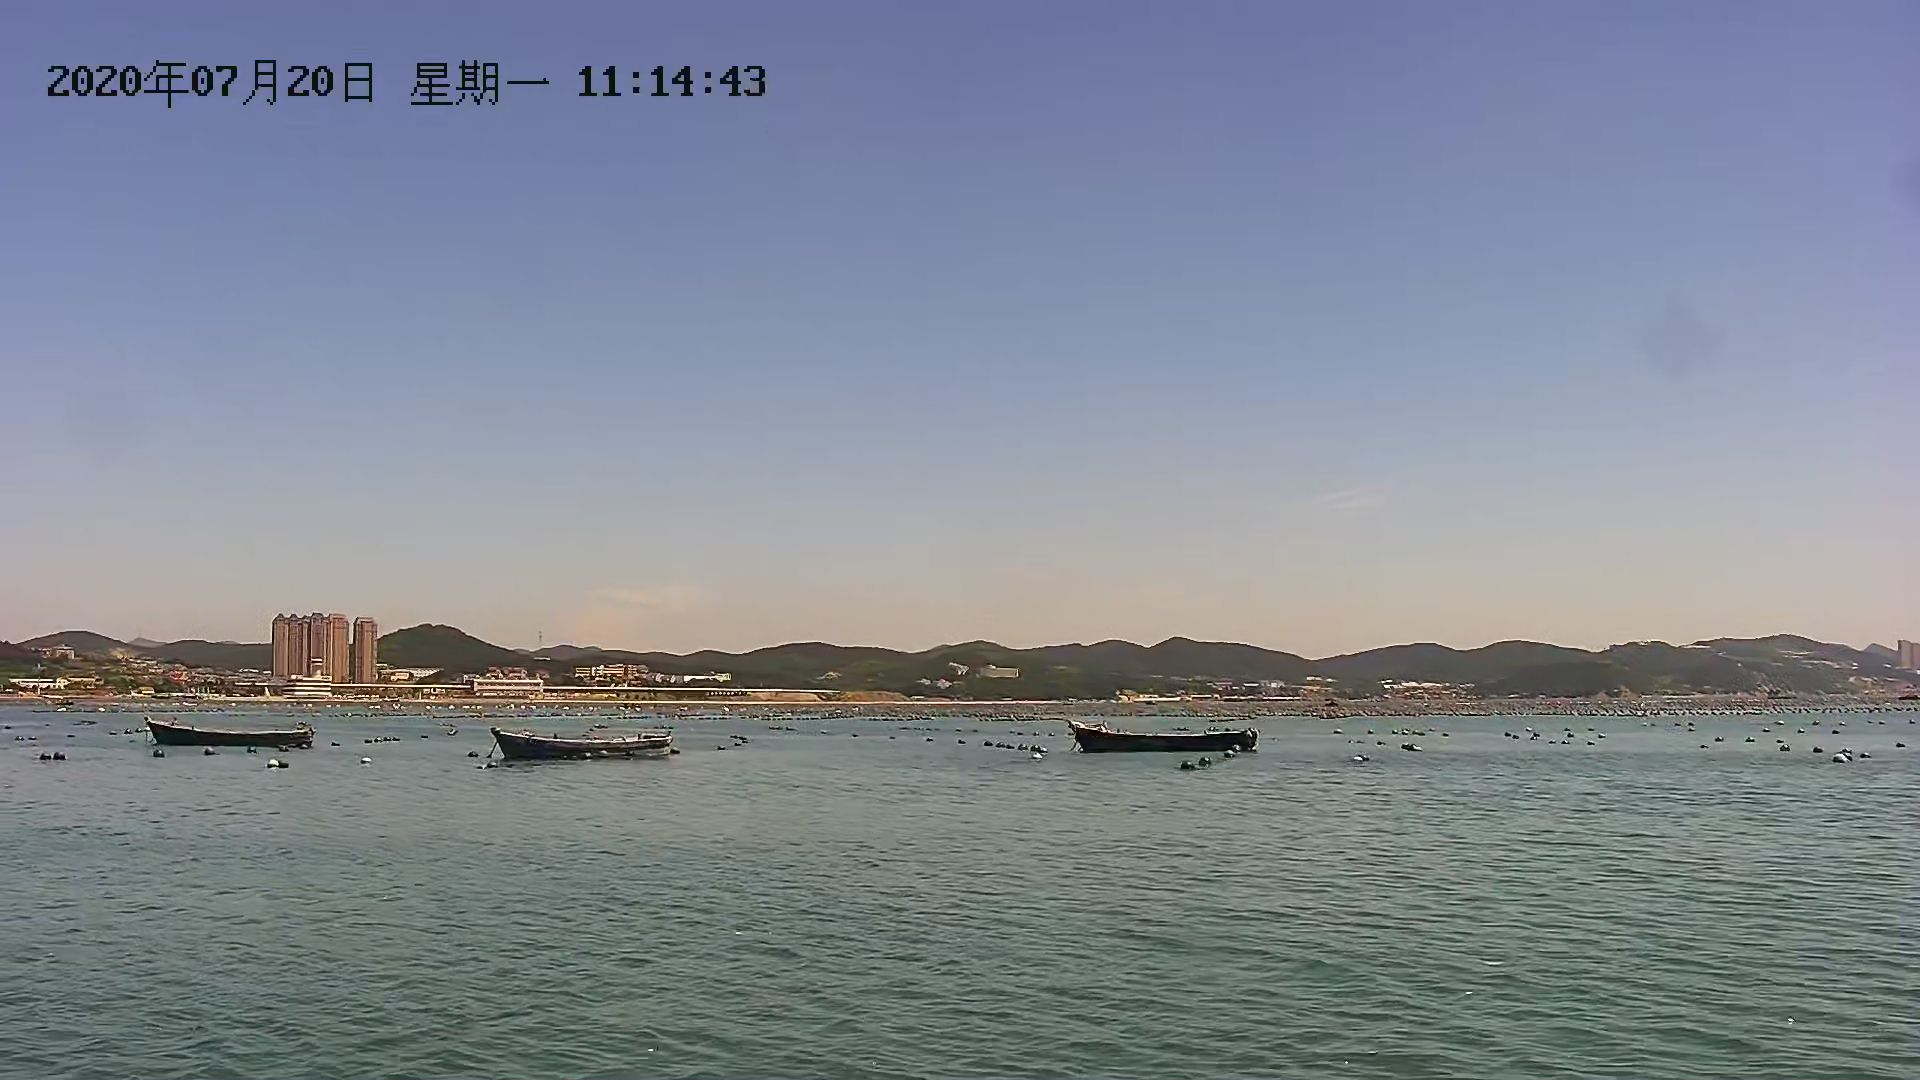boat: (1073, 709, 1262, 756), (133, 712, 324, 750), (484, 723, 676, 760)
